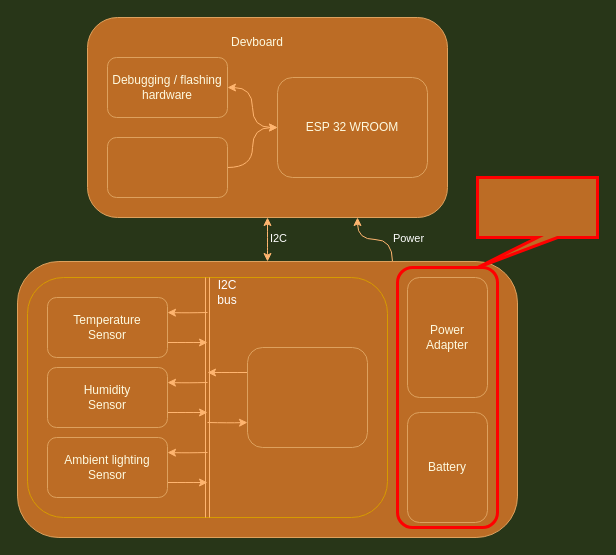
This 616x555 diagram has some shape labels left out. Each missing label, with the centre of its shape:
Extension interface: (x=307, y=397)
Not included in minimal working version!: (x=537, y=222)
Power supply: (x=167, y=167)
